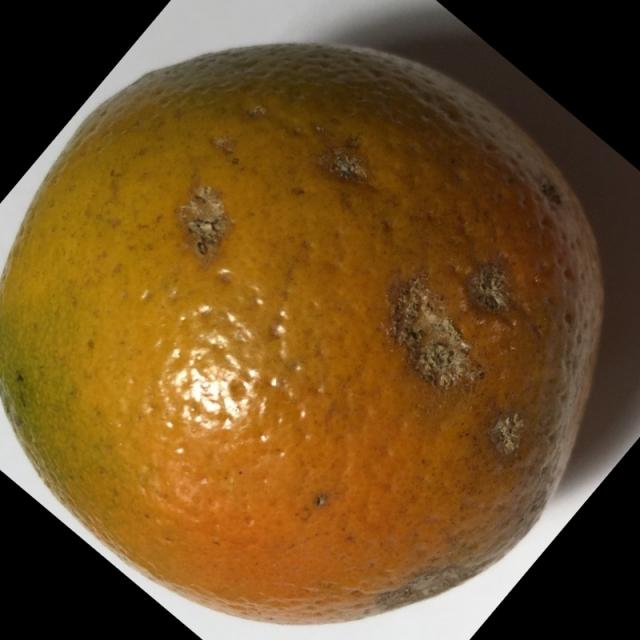canker: (10, 14, 619, 633)
